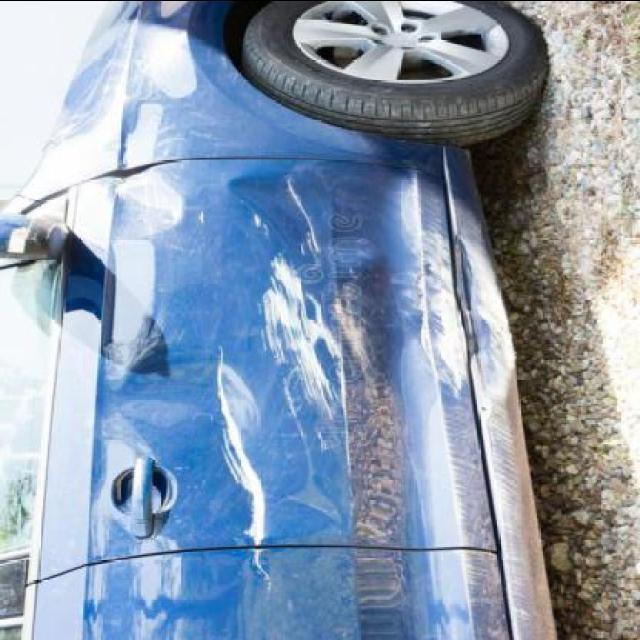RunningBoard-Dent: (406, 218, 516, 424)
doorouter-scratch: (212, 174, 380, 548)
